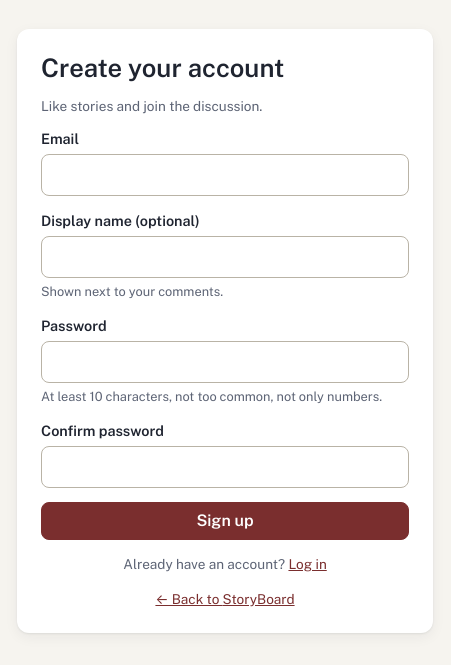
Test case: RegisterPage › shows the server's field errors next to the fields
Type "new@example.com" into the field labelled "Email" at [225, 175], box [41,154,409,196]
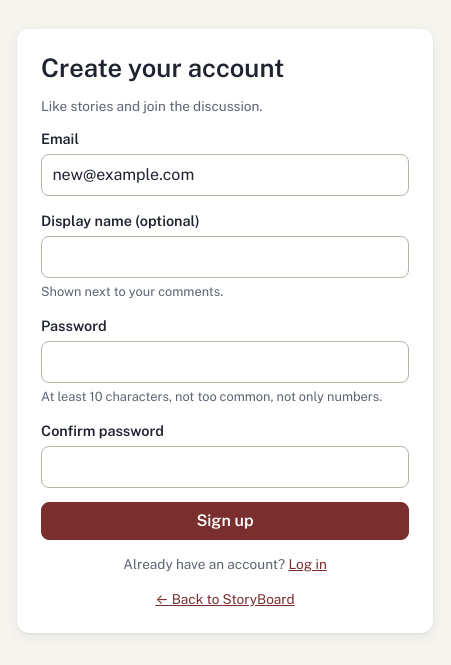
Type "Correct-horse-battery-9" into the password field labelled "Password" at [225, 362], box [41,341,409,383]
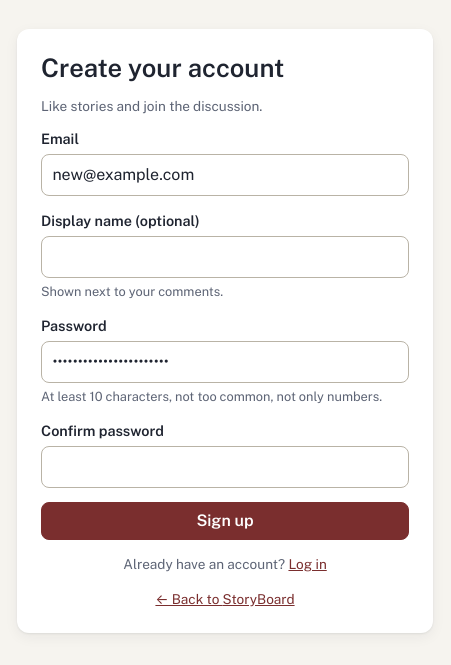
Type "Correct-horse-battery-9" into the password field labelled "Confirm password" at [225, 467], box [41,446,409,488]
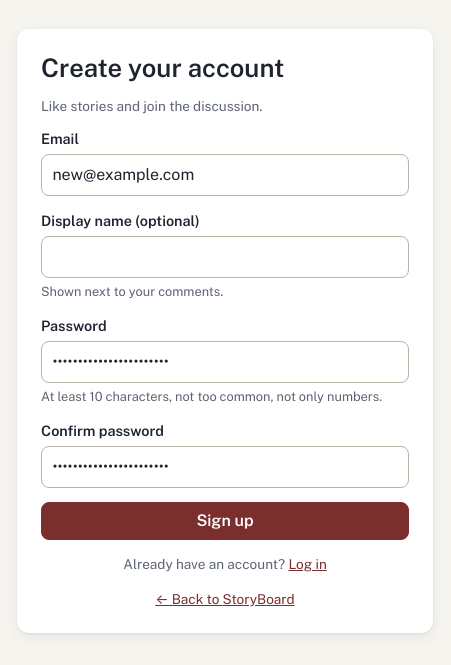
Click the button "Sign up" at [225, 521], box [41,502,409,540]
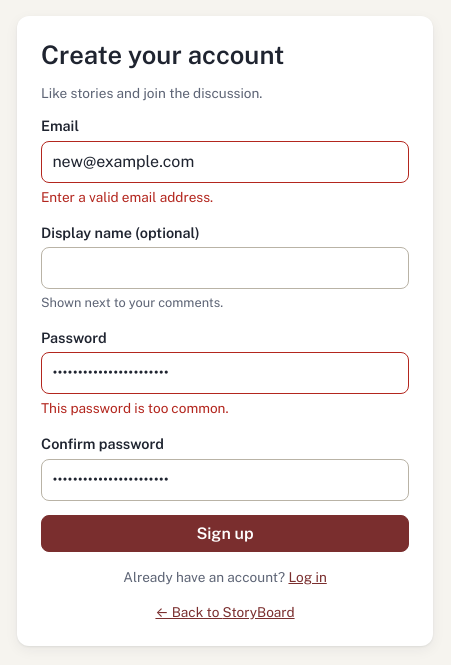
Expected: the text "Enter a valid email address." is shown, [41,189,213,205]
Expected: the text "This password is too common." is shown, [41,400,228,416]
